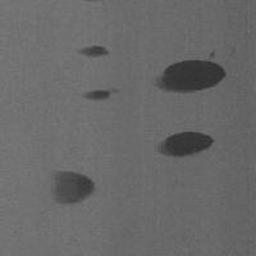Oil spot: (152, 47, 228, 95), (154, 127, 216, 161), (47, 168, 96, 209), (79, 86, 122, 102), (74, 45, 110, 59), (79, 0, 104, 3)
